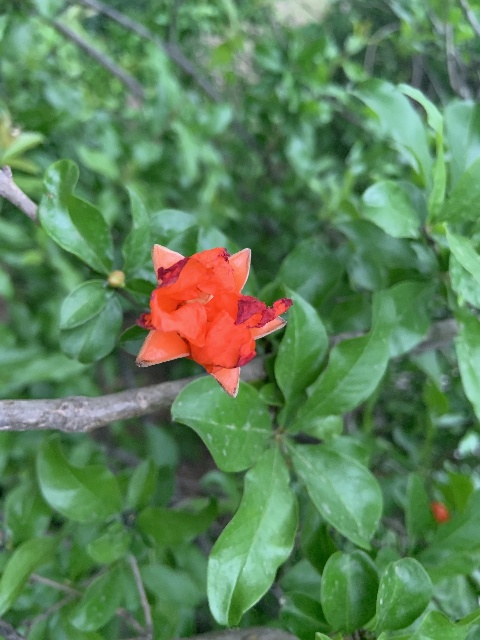flower: (136, 243, 292, 396)
